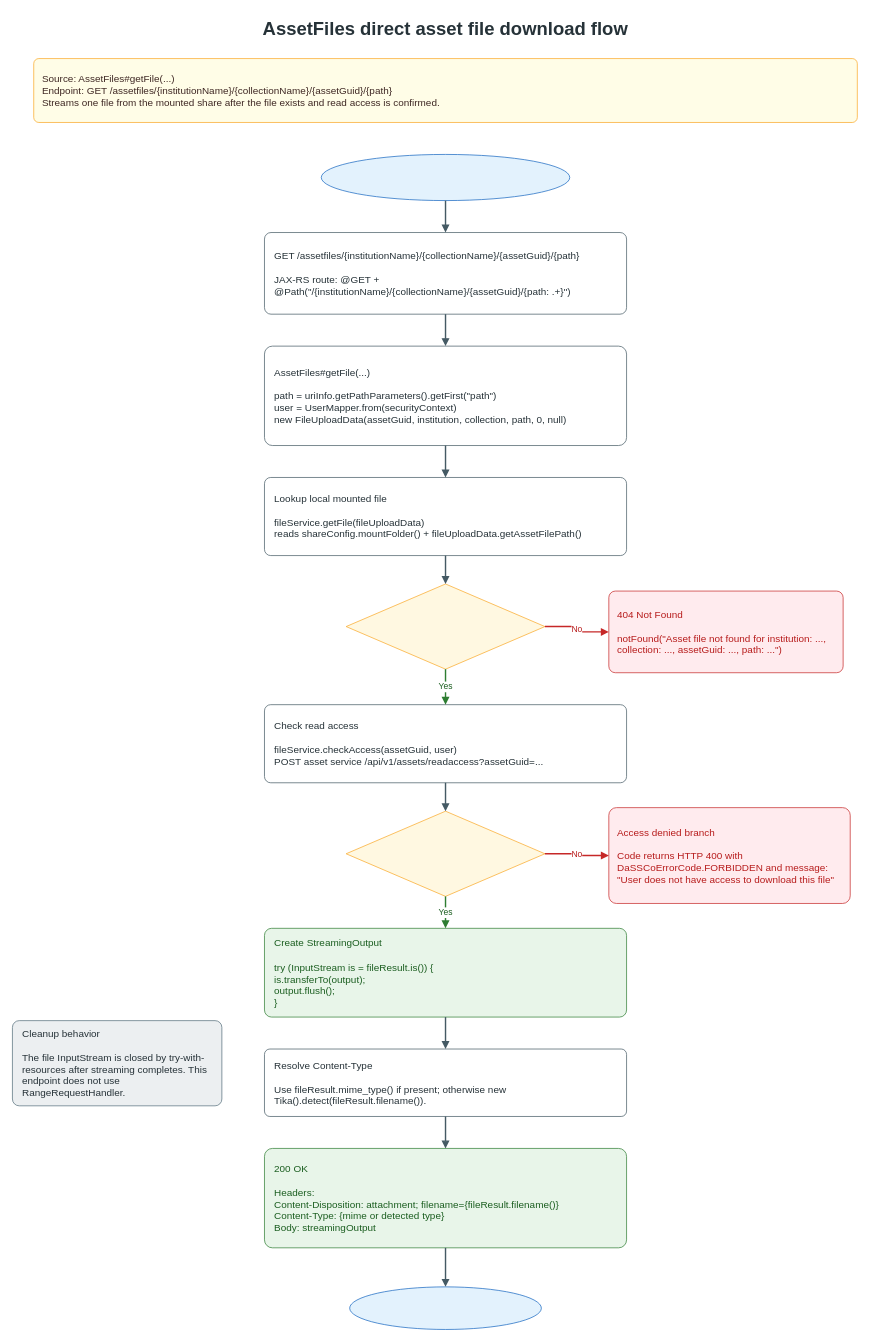
Image size: 870x1342. Some labels were removed from this diagram. The shapes that lost their labels are listed below. From the top down, each one's centre as x and y in pixels, then its label:
At point 445,177: "Client requests an asset file".
At point 445,626: "FileResult present?".
At point 445,853: "hasAccess?".
At point 445,1307: "File download complete".
